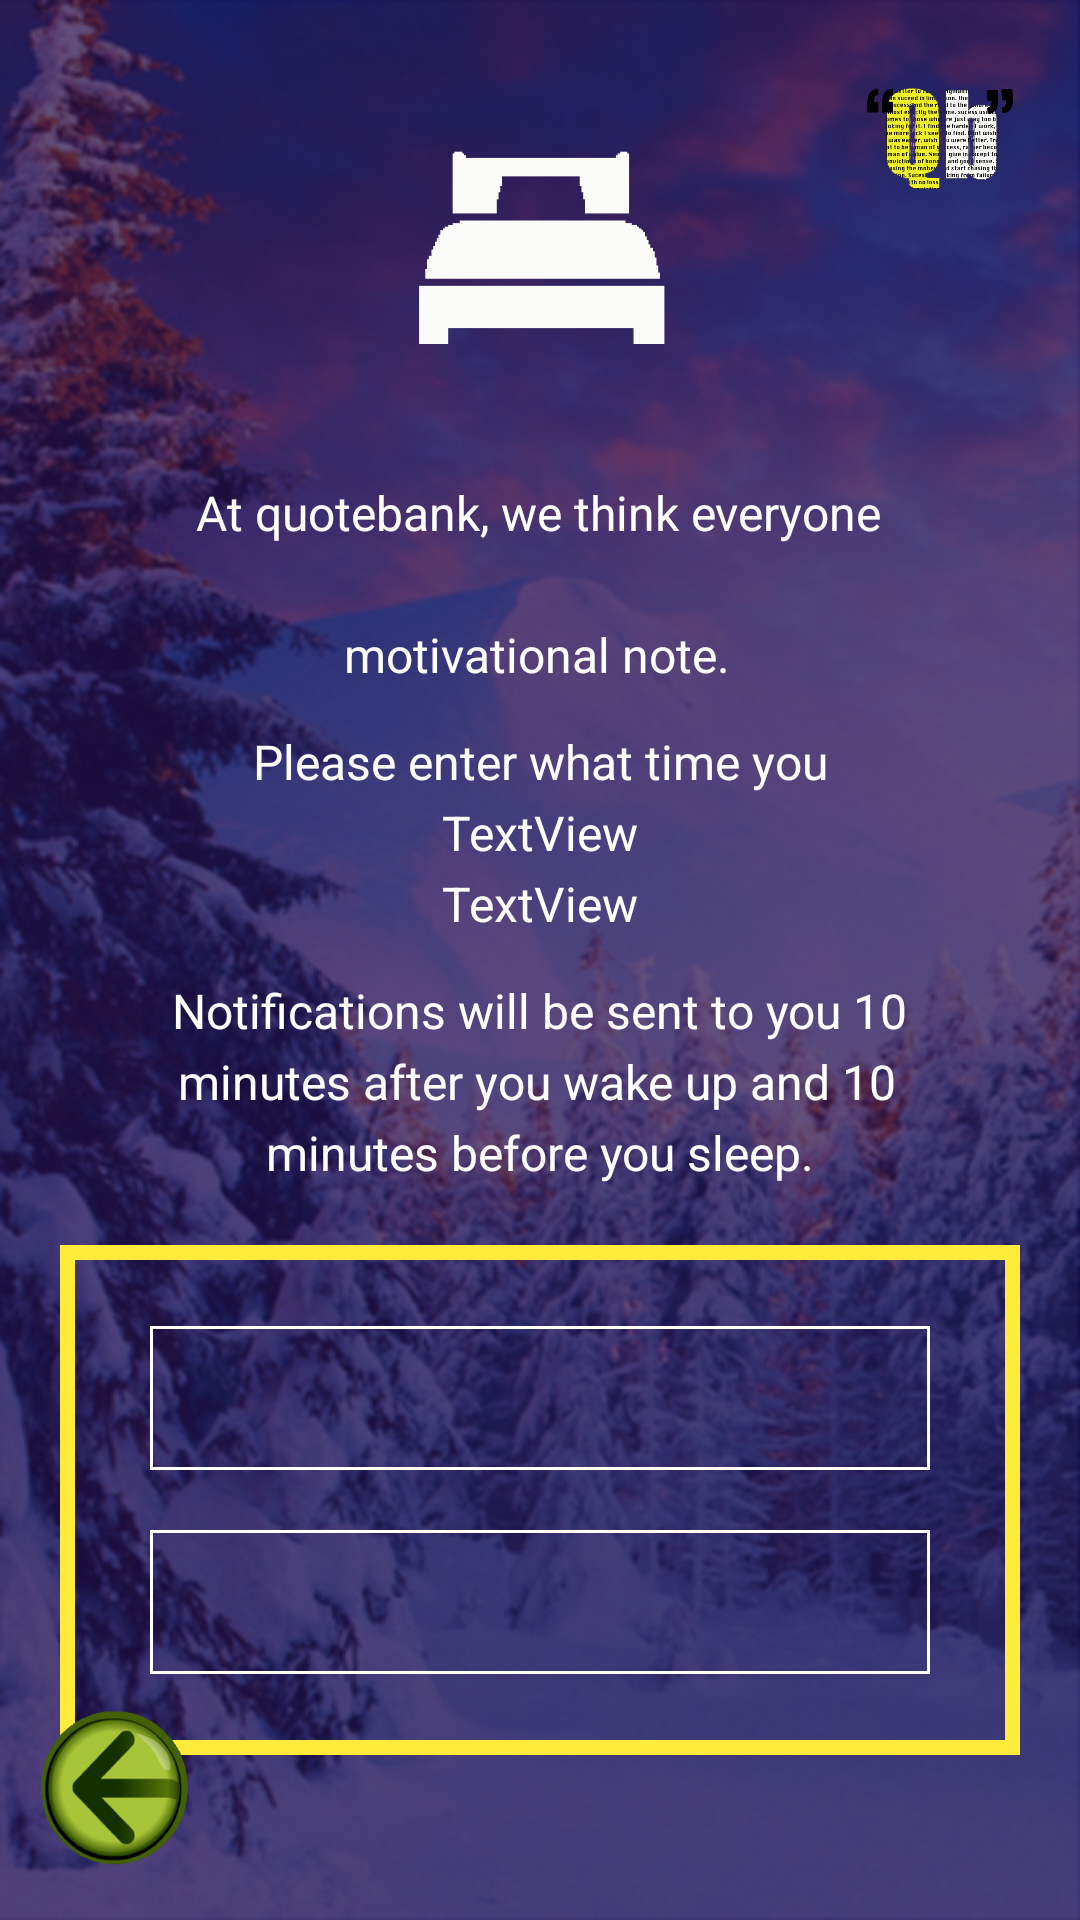

Icons on this 1080px x 1920px Android screen, each with the point to tap as (x=x, y=y):
arrow: (x=114, y=1781)
quoteb: (x=949, y=119)
